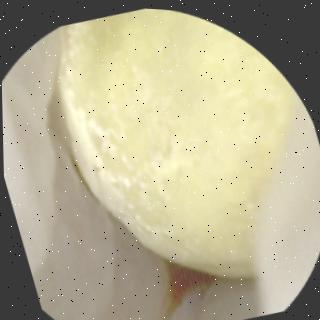stone: (56, 9, 296, 271)
tissue: (2, 36, 319, 320)
